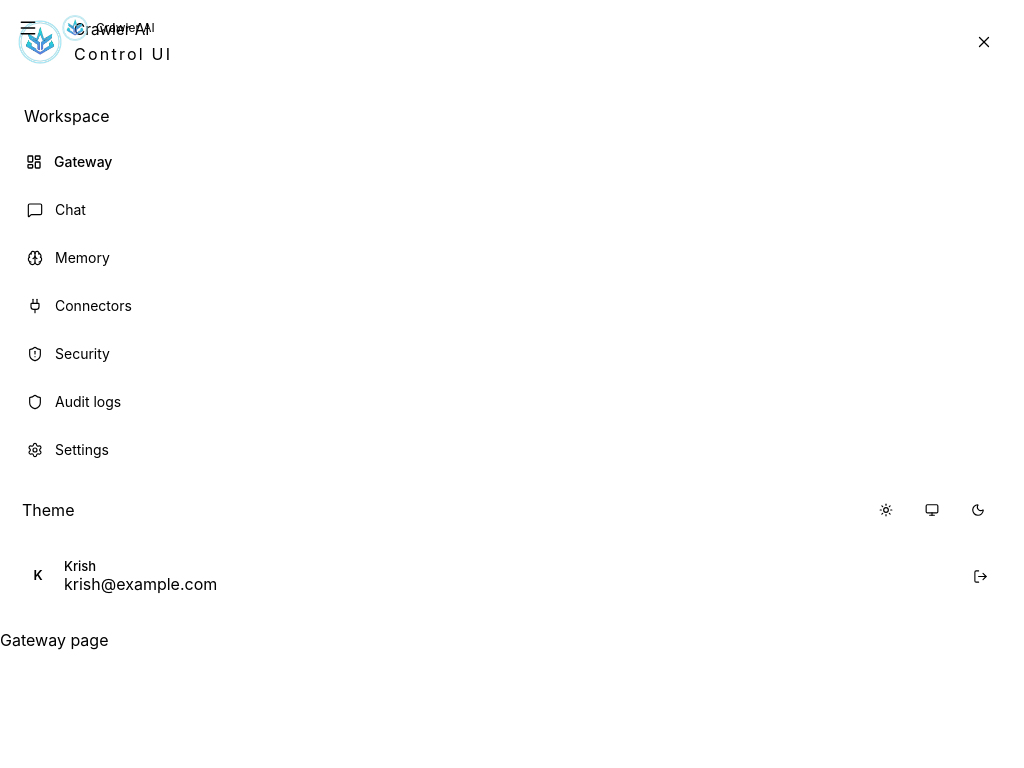
Layout on a phone › closes itself once the reader has navigated
Check: the text "Krish" is shown, box x1=64 y1=558 x2=96 y2=574
Click the button named "Open navigation" at (28, 28), box x1=6 y1=6 x2=50 y2=50
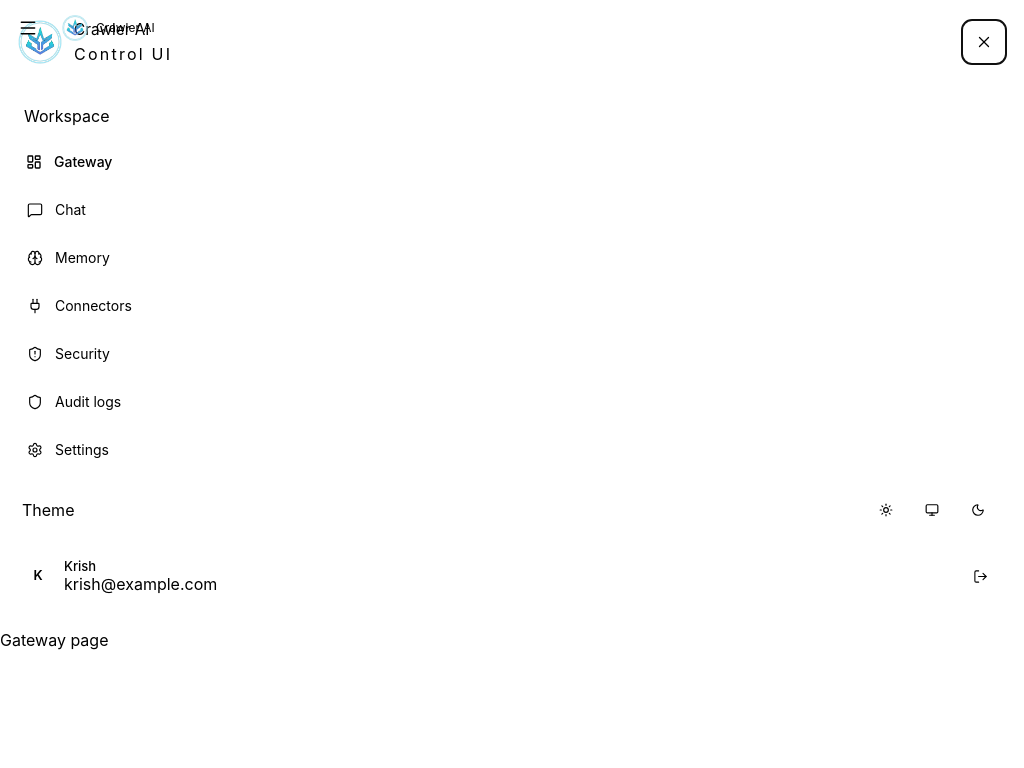
Click the link "Chat" at (56, 210), box x1=27 y1=201 x2=86 y2=218
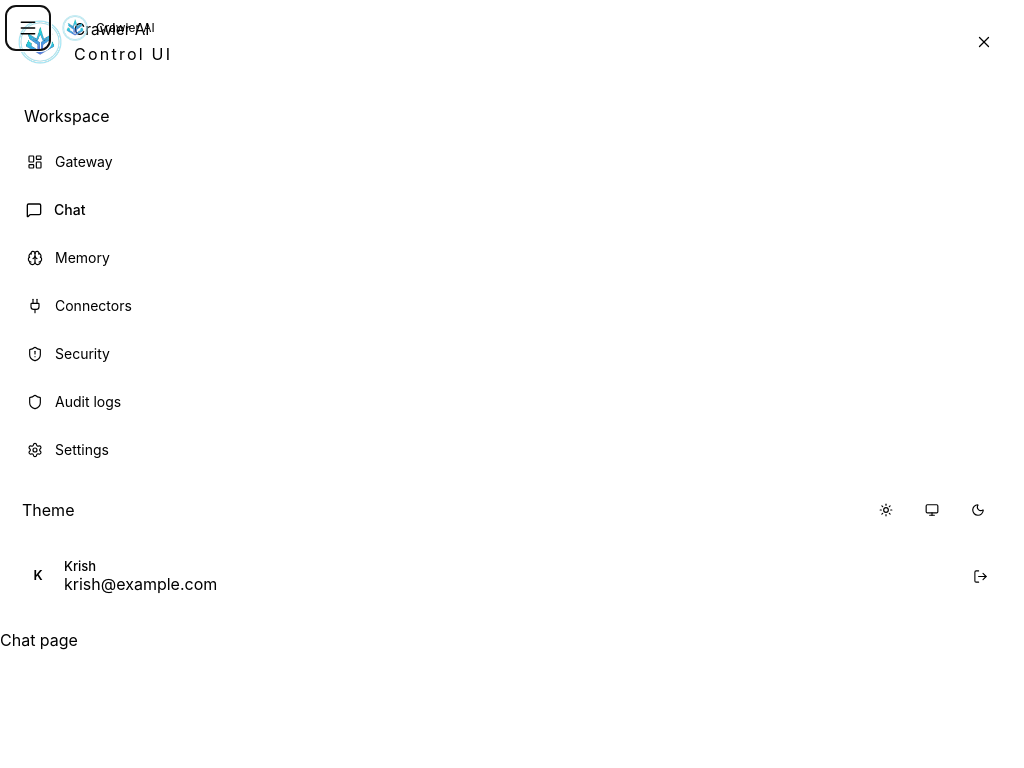
Check: the heading "Chat page" is shown, box x1=0 y1=630 x2=78 y2=650
